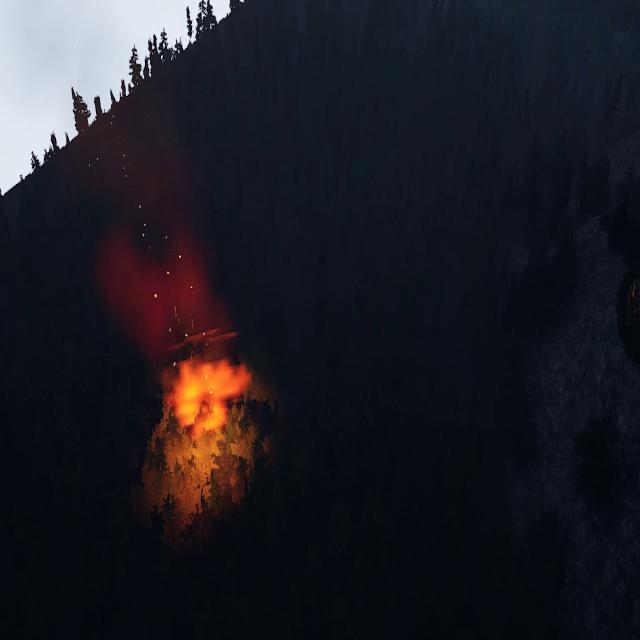fire: (173, 358, 250, 438)
smoke: (68, 92, 251, 429)
